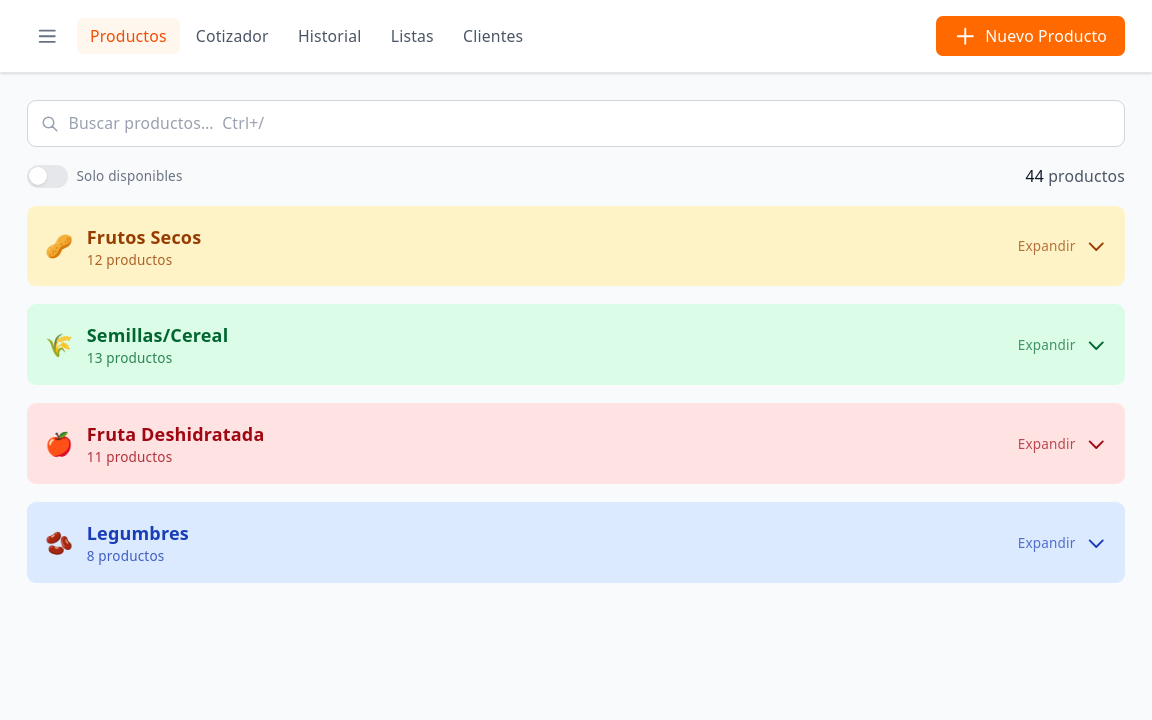
Test: Change password from the options menu › opens the dialog from the menu entry
Click the button named "Menú de opciones" at coordinates (47, 36), box [27, 16, 68, 56]
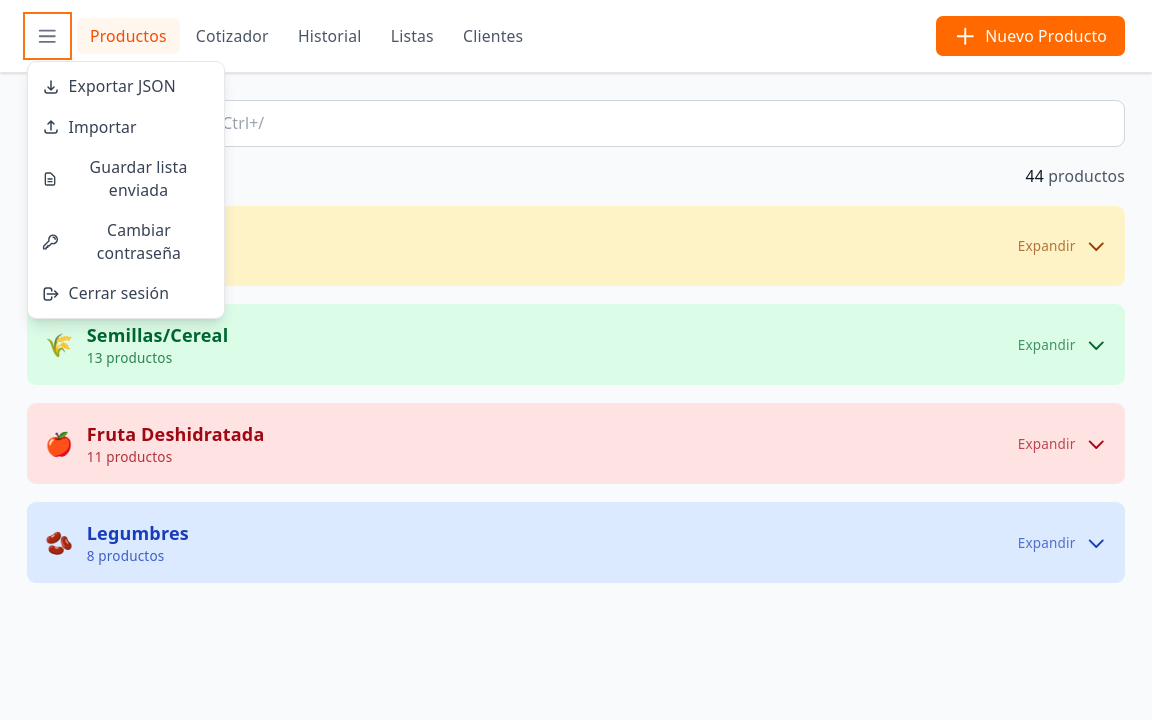
Click the button "Cambiar contraseña" at coordinates (126, 242), box [28, 210, 224, 273]
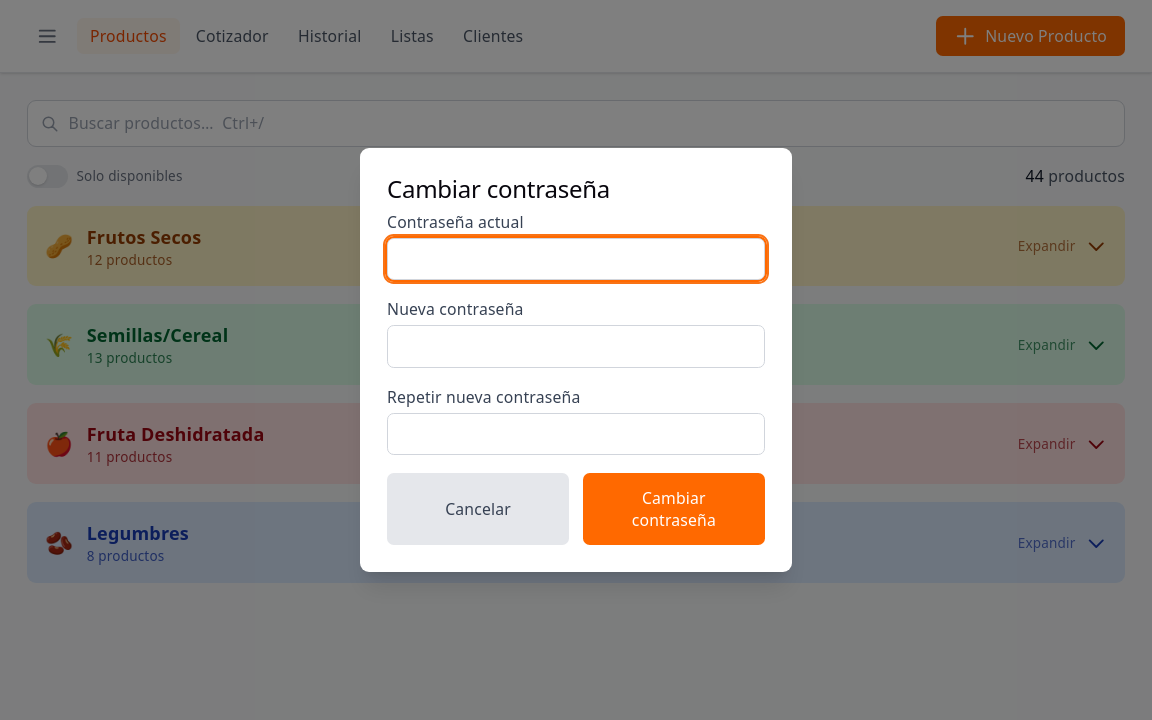
Expected: the password field labelled "Contraseña actual" is shown, [387, 238, 765, 280]
Expected: the password field labelled "Nueva contraseña" is shown, [387, 325, 765, 368]
Expected: the password field labelled "Repetir nueva contraseña" is shown, [387, 413, 765, 455]
